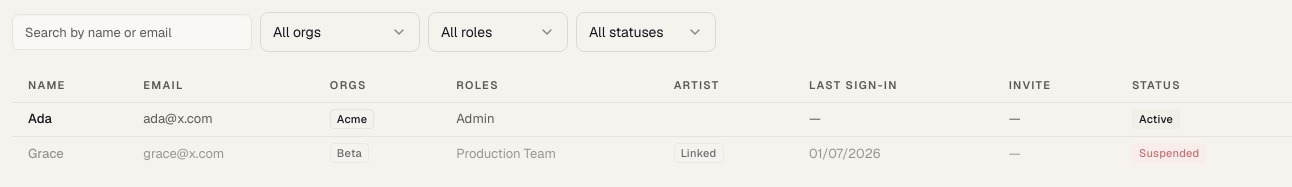
Test case: UsersTab › lists users and filters by search
Expected: the text "Ada" is shown, [12,102,127,136]
Expected: the text "Grace" is shown, [12,136,127,170]
In the field with placeholder "Search by name or email": (132, 32) [12,14,252,50], type "grace"
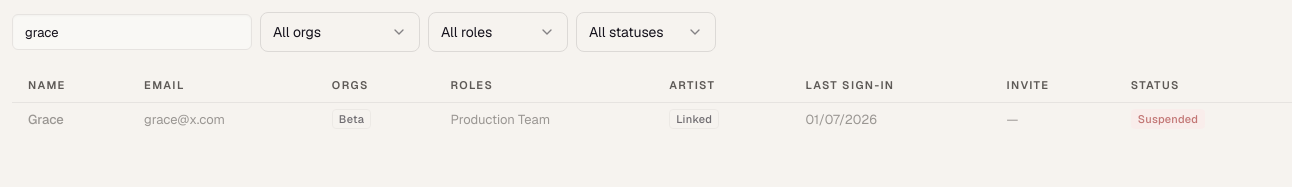
Expected: the text "Grace" is shown, [12,102,128,136]
Now the text "Ada" is gone
